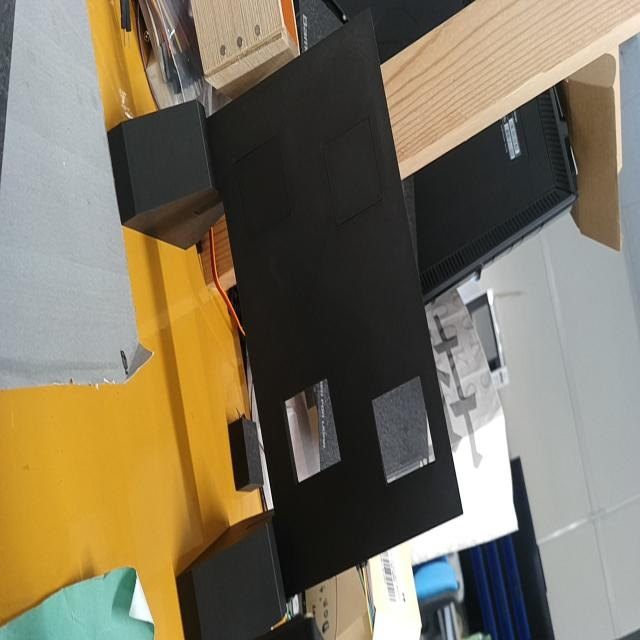Obstacle: (371, 375, 436, 483), (285, 376, 342, 483)
Wall: (209, 7, 463, 599)
